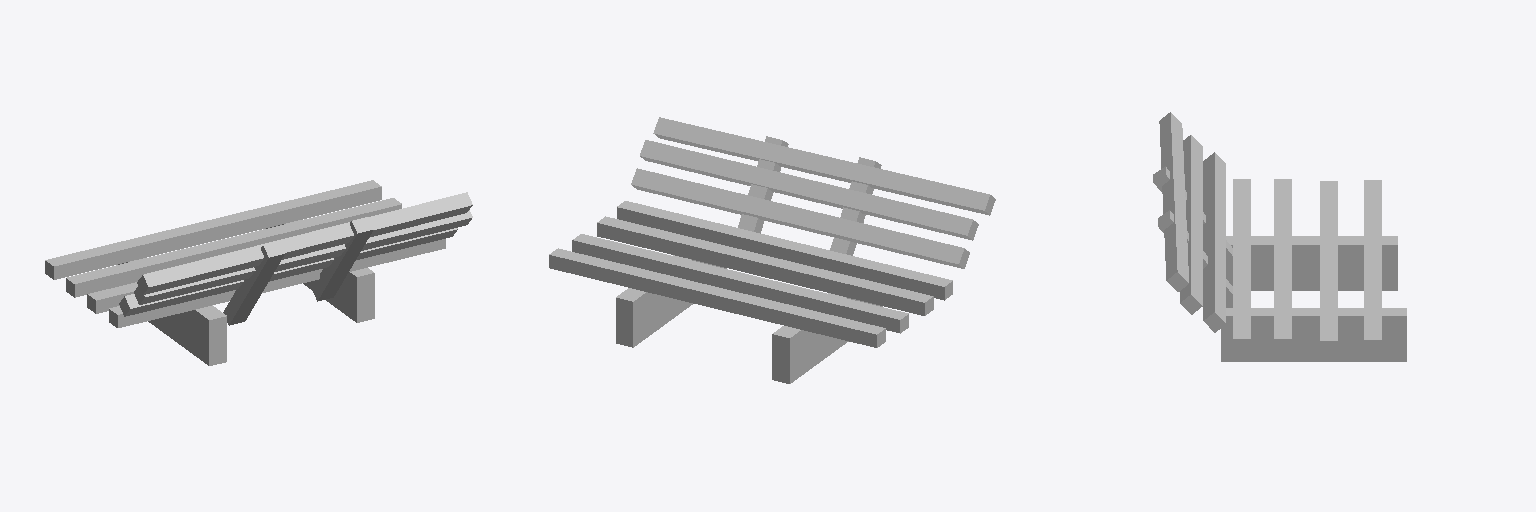
The model's file is bench.obj.
3 renders of one model, left to right at view 1: azimuth 30°, elevation 25°; view 2: azimuth 150°, elevation 25°; view 3: azimuth 270°, elevation 25°, orthographic.
Visible parts, largest first — view 1: Cube.002, Cube.010_Cube.011, Cube.003, Cube.009_Cube.010, Cube.005, Cube, Cube.008_Cube.009, Cube.006_Cube.007, Cube.001_Cube.006, Cube.007_Cube.008, Cube.004; view 2: Cube.004, Cube.002, Cube.008_Cube.009, Cube.010_Cube.011, Cube.009_Cube.010, Cube.005, Cube.003, Cube.001_Cube.006, Cube, Cube.007_Cube.008, Cube.006_Cube.007; view 3: Cube.001_Cube.006, Cube, Cube.008_Cube.009, Cube.010_Cube.011, Cube.002, Cube.004, Cube.005, Cube.003, Cube.009_Cube.010, Cube.006_Cube.007.
Boxes of the visible parts, x1=… form: Cube.002: x1=45, y1=180, x2=381, y2=279; Cube.010_Cube.011: x1=137, y1=192, x2=472, y2=294; Cube.003: x1=66, y1=198, x2=401, y2=297; Cube.009_Cube.010: x1=134, y1=210, x2=472, y2=304; Cube.005: x1=109, y1=239, x2=445, y2=327; Cube: x1=118, y1=258, x2=226, y2=365; Cube.008_Cube.009: x1=119, y1=228, x2=457, y2=316; Cube.006_Cube.007: x1=223, y1=241, x2=284, y2=325; Cube.001_Cube.006: x1=266, y1=220, x2=374, y2=322; Cube.007_Cube.008: x1=312, y1=217, x2=373, y2=301; Cube.004: x1=87, y1=282, x2=137, y2=313; Cube.004: x1=597, y1=216, x2=933, y2=315; Cube.002: x1=549, y1=248, x2=885, y2=347; Cube.008_Cube.009: x1=631, y1=168, x2=969, y2=268; Cube.010_Cube.011: x1=653, y1=117, x2=995, y2=215; Cube.009_Cube.010: x1=640, y1=140, x2=978, y2=240; Cube.005: x1=617, y1=201, x2=952, y2=300; Cube.003: x1=572, y1=234, x2=908, y2=333; Cube.001_Cube.006: x1=616, y1=255, x2=726, y2=347; Cube: x1=772, y1=293, x2=882, y2=383; Cube.007_Cube.008: x1=738, y1=136, x2=788, y2=233; Cube.006_Cube.007: x1=830, y1=157, x2=881, y2=255; Cube.001_Cube.006: x1=1221, y1=308, x2=1406, y2=361; Cube: x1=1226, y1=236, x2=1397, y2=290; Cube.008_Cube.009: x1=1203, y1=152, x2=1225, y2=332; Cube.010_Cube.011: x1=1159, y1=112, x2=1188, y2=291; Cube.002: x1=1364, y1=180, x2=1381, y2=353; Cube.004: x1=1274, y1=179, x2=1291, y2=352; Cube.005: x1=1233, y1=179, x2=1250, y2=352; Cube.003: x1=1320, y1=181, x2=1337, y2=353; Cube.009_Cube.010: x1=1180, y1=135, x2=1202, y2=314; Cube.006_Cube.007: x1=1153, y1=166, x2=1232, y2=278.
Size of the model in its own units: 9.34 by 3.49 by 6.1.